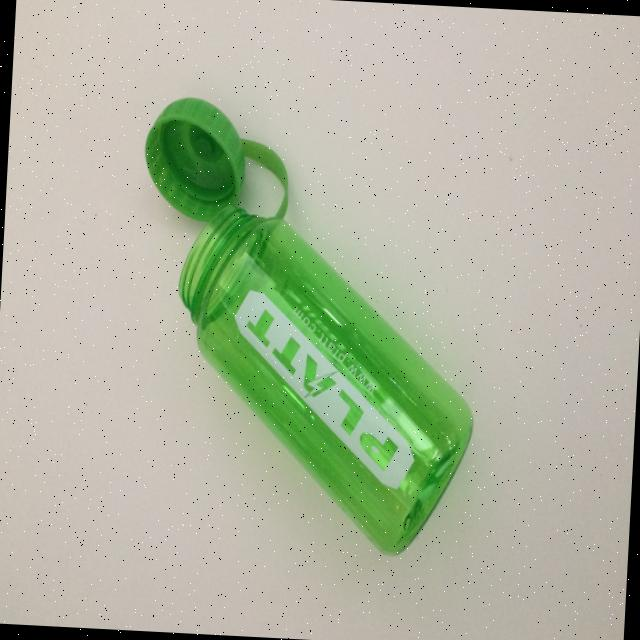plastic: (123, 94, 490, 560)
